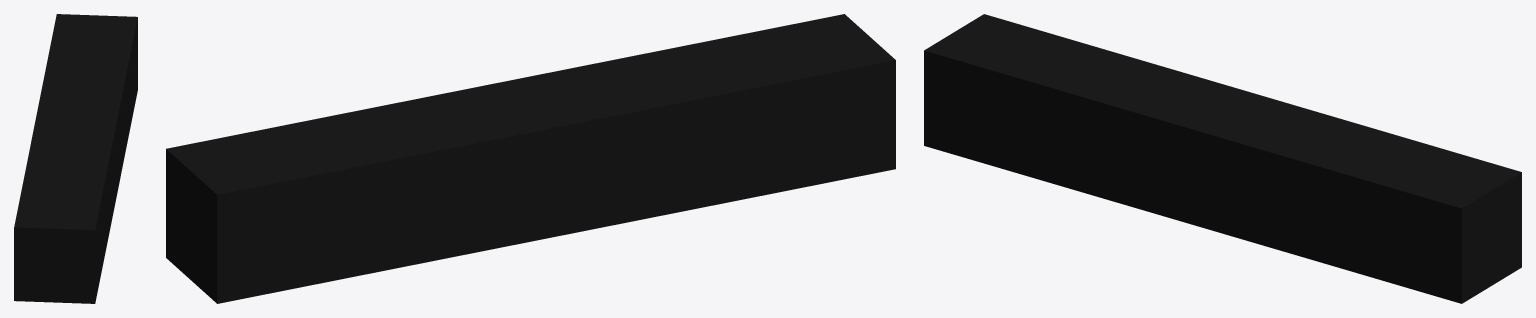
The model's file is support_arm__support_leg_1.glb.
The picture shows the model from 3 angles, left to right: view 1: azimuth 30°, elevation 25°; view 2: azimuth 150°, elevation 25°; view 3: azimuth 270°, elevation 25°; orthographic projection. The views are drawn at different scales.
Parts seen in each view (by area): view 1: world; view 2: world; view 3: world.
Part boxes in pixels (left/top/right/bottom): world: left=14, top=14, right=137, bottom=303; world: left=166, top=14, right=895, bottom=303; world: left=924, top=14, right=1521, bottom=303.
Size of the model in its own units: 0.1969 by 0.045 by 0.2557.
Materials: 1 (1 with a texture image).
